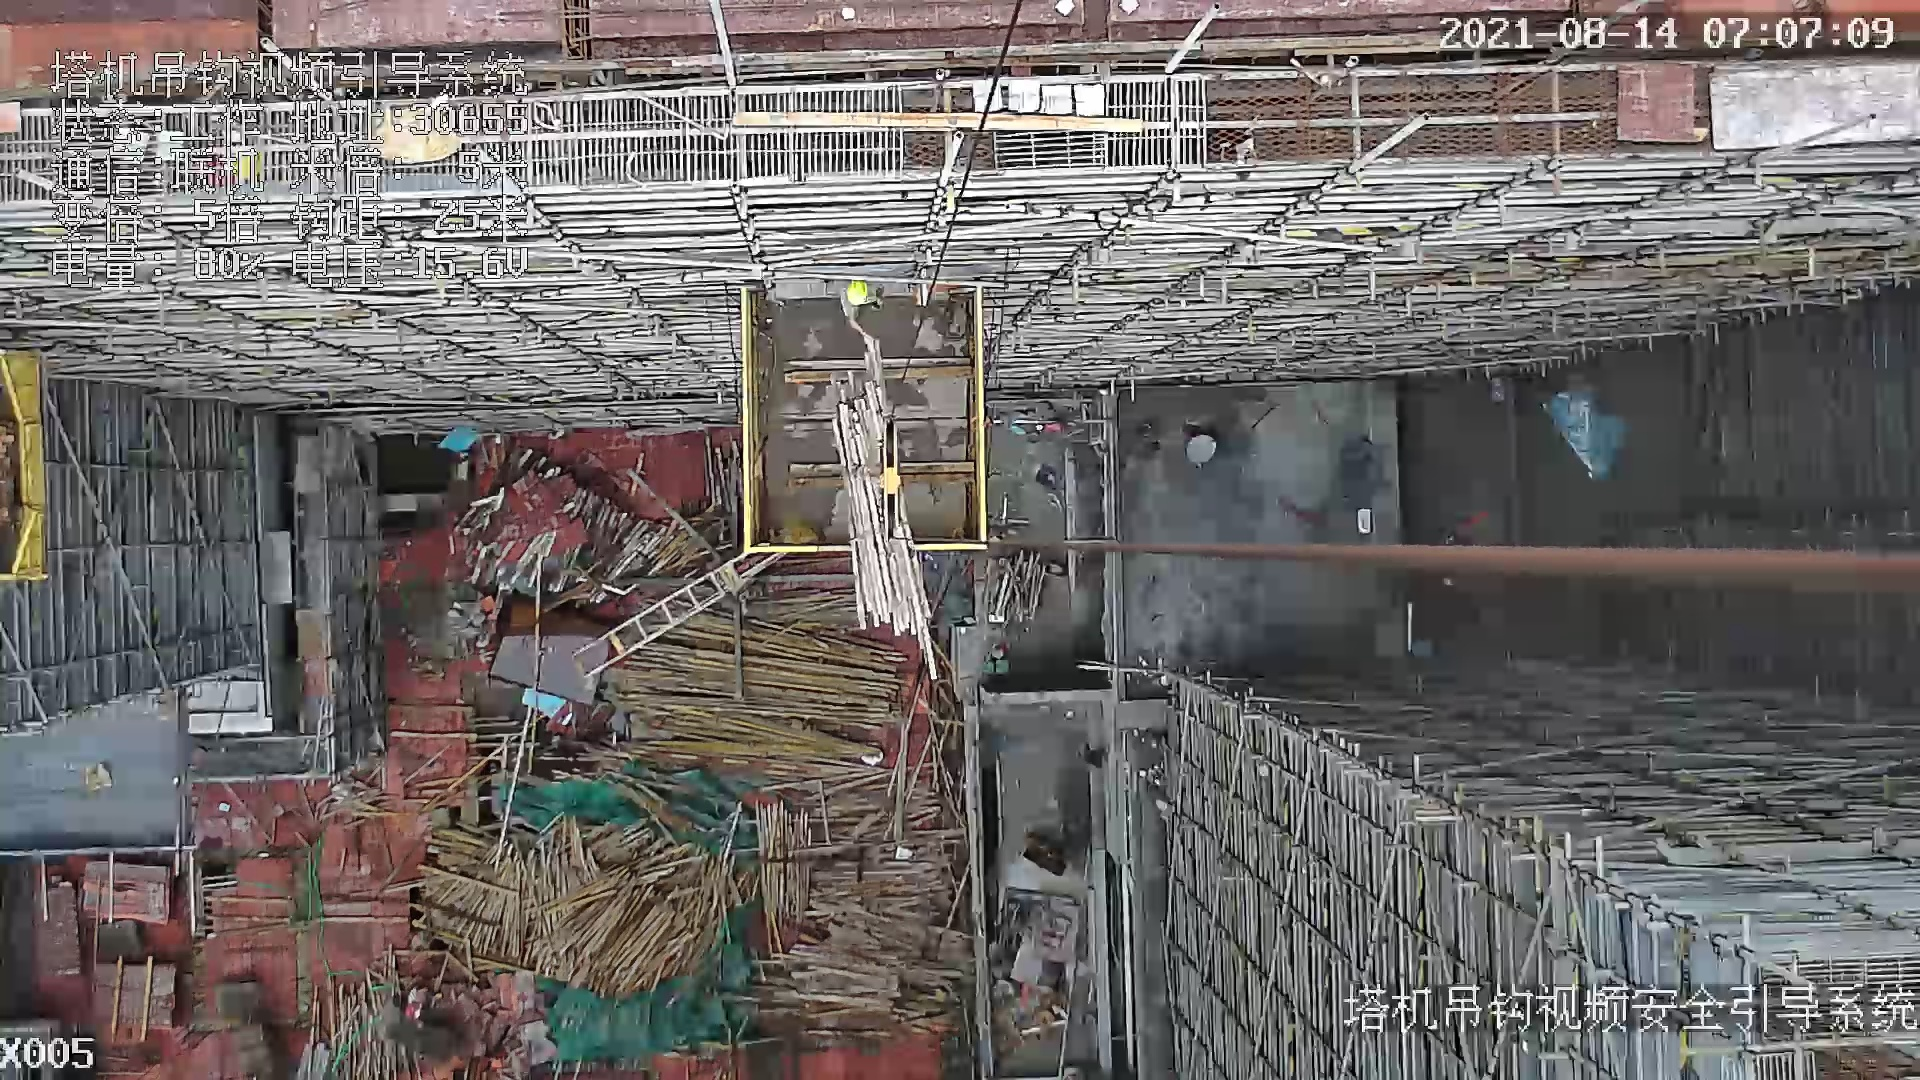helmet: (847, 281, 870, 308)
hook: (869, 415, 909, 545)
person: (838, 280, 888, 323)
